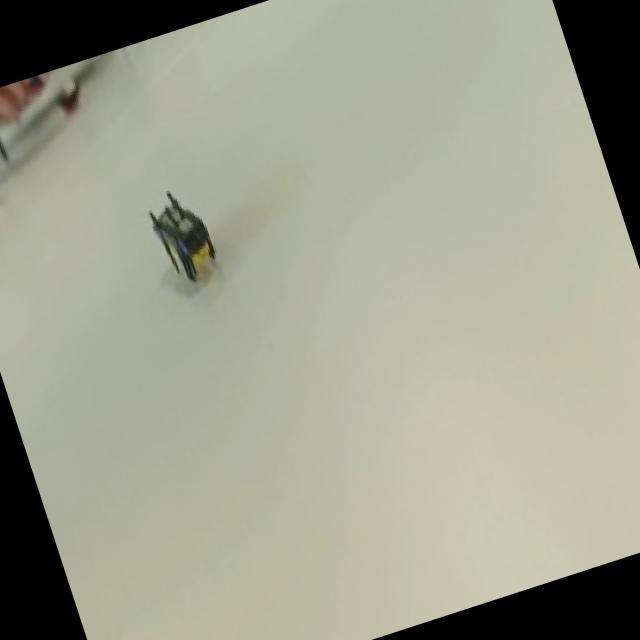6_NanoBug_GrisOscuro: (116, 136, 260, 301)
